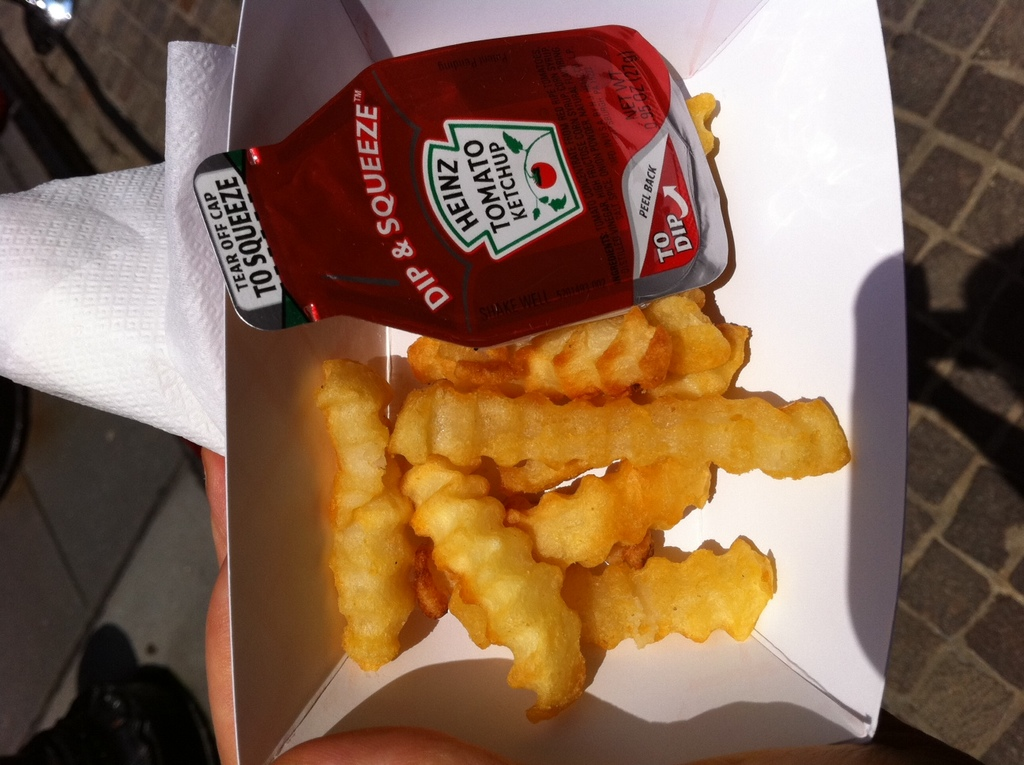French fries: (321, 297, 859, 731)
